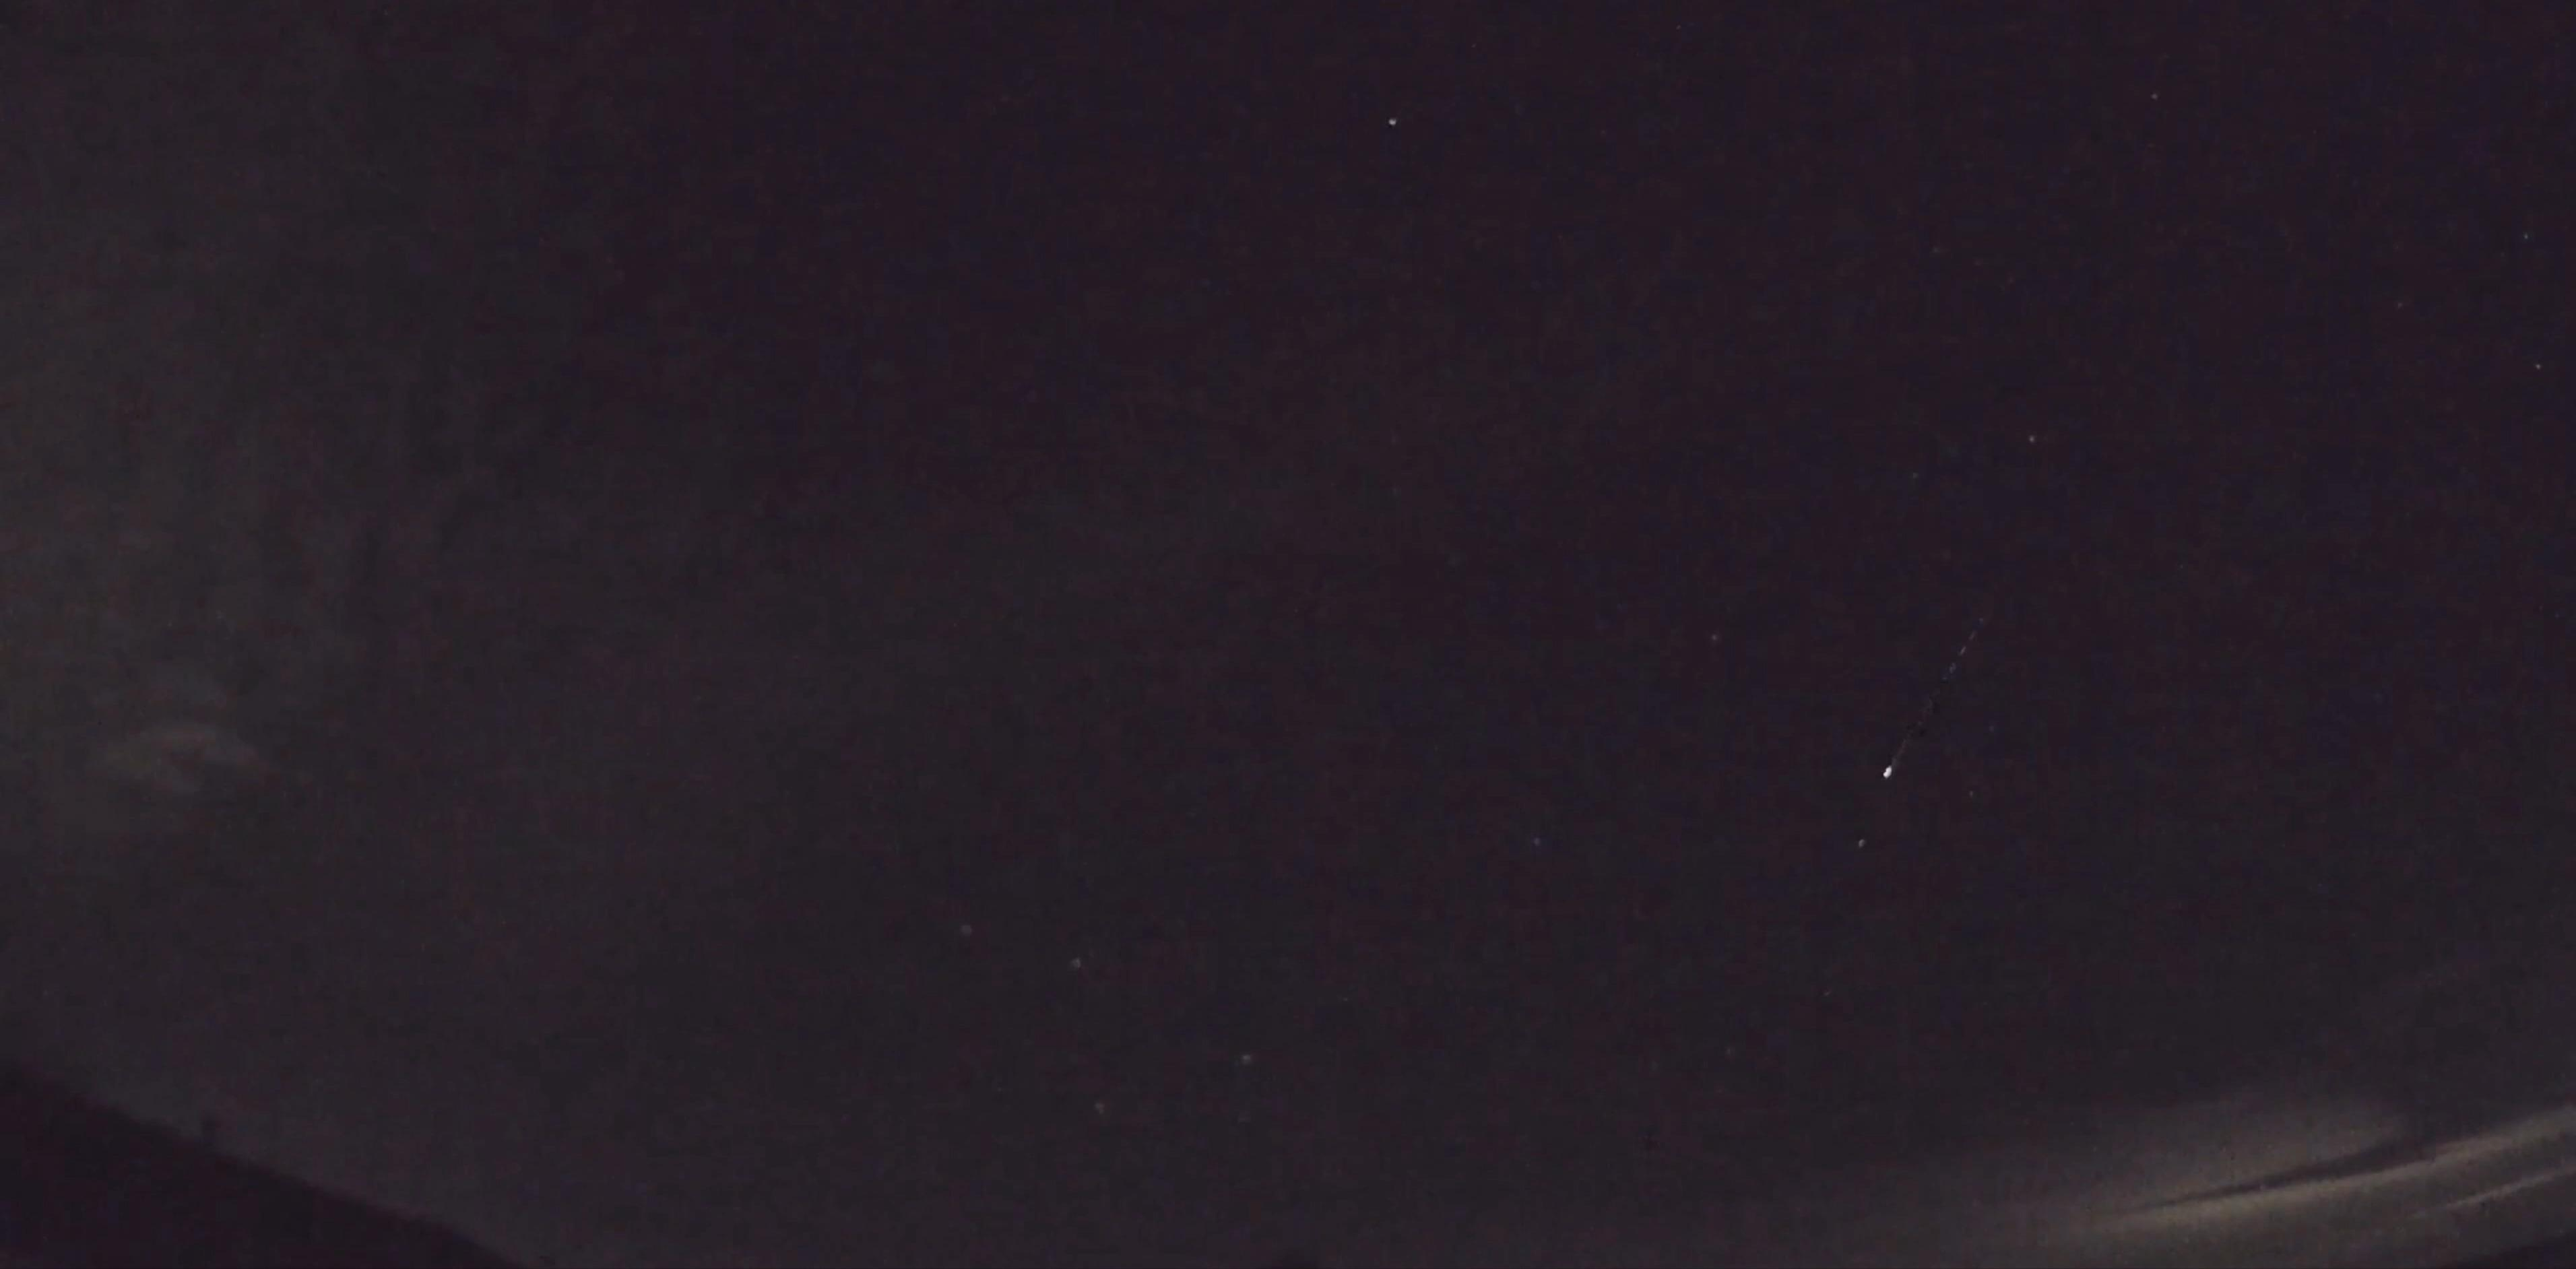meteorite: (1861, 604, 2017, 785)
